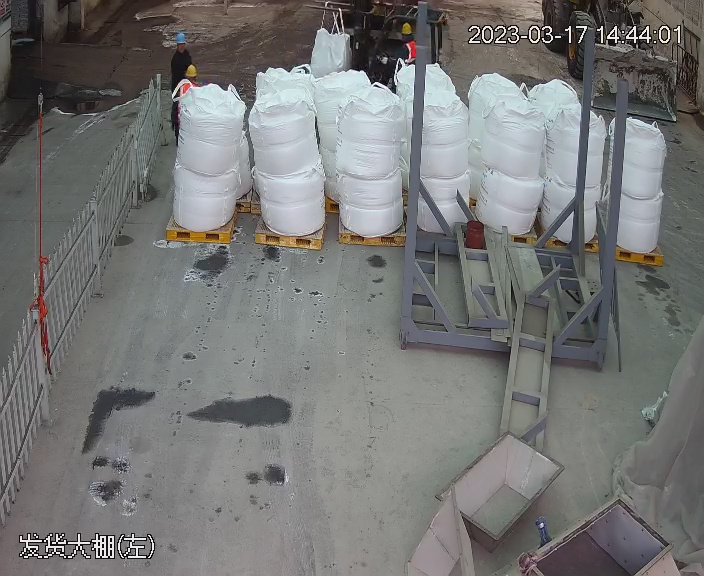head: (168, 32, 194, 63), (397, 22, 416, 62)
helmet: (184, 63, 199, 77), (174, 31, 187, 43), (401, 22, 413, 35)
people: (165, 32, 194, 87)
